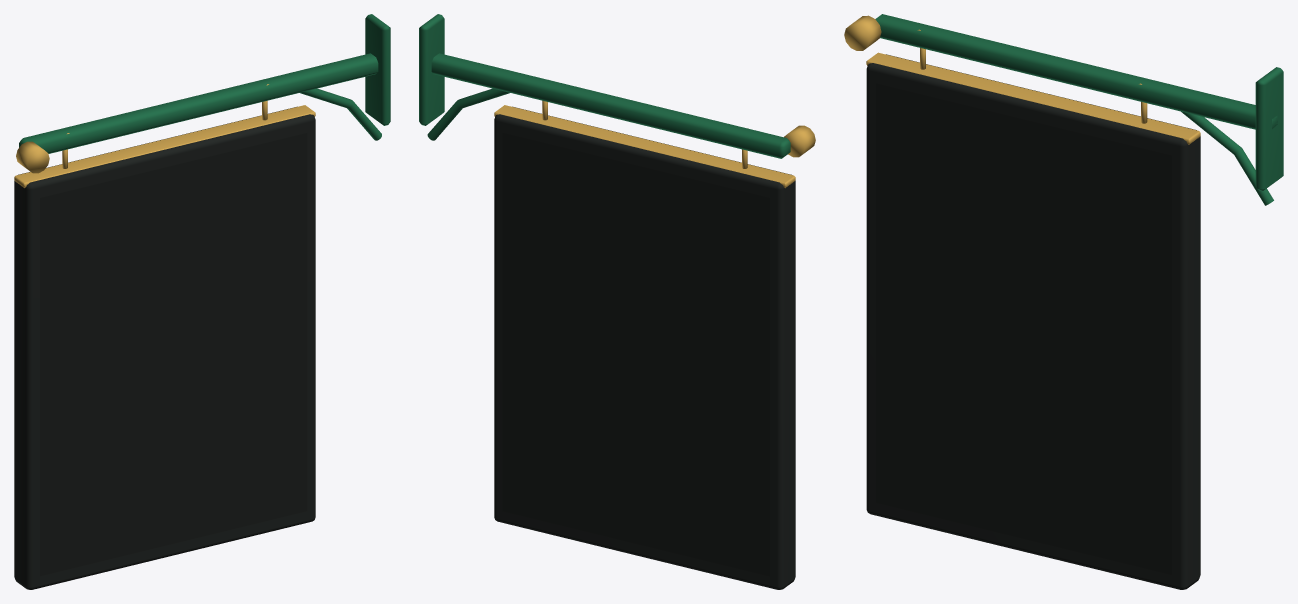
Rendered from blade_sign.glb.
3 renders of one model, left to right at view 1: azimuth 30°, elevation 25°; view 2: azimuth 150°, elevation 25°; view 3: azimuth 330°, elevation 25°, orthographic. The views are drawn at different scales.
Parts seen in each view (by area): view 1: SignFaceB, Panel, Arm, PanelTrim, WallPlate, Brace, ArmEnd; view 2: SignFaceA, Panel, Arm, PanelTrim, WallPlate, Brace, ArmEnd; view 3: SignFaceB, Panel, Arm, PanelTrim, WallPlate, Brace, ArmEnd.
Part boxes in pixels (bbox=[...]): SignFaceB: bbox=[40, 133, 307, 576]; Panel: bbox=[14, 106, 315, 589]; Arm: bbox=[19, 53, 378, 153]; PanelTrim: bbox=[14, 105, 315, 187]; WallPlate: bbox=[365, 14, 390, 125]; Brace: bbox=[300, 88, 381, 140]; ArmEnd: bbox=[16, 141, 49, 173]; SignFaceA: bbox=[502, 133, 769, 576]; Panel: bbox=[494, 106, 795, 589]; Arm: bbox=[431, 53, 790, 158]; PanelTrim: bbox=[494, 105, 795, 187]; WallPlate: bbox=[419, 14, 444, 125]; Brace: bbox=[427, 88, 509, 140]; ArmEnd: bbox=[784, 125, 815, 157]; SignFaceB: bbox=[876, 83, 1171, 574]; Panel: bbox=[866, 54, 1200, 589]; Arm: bbox=[875, 14, 1277, 129]; PanelTrim: bbox=[866, 52, 1200, 144]; WallPlate: bbox=[1255, 67, 1283, 190]; Brace: bbox=[1181, 111, 1273, 205]; ArmEnd: bbox=[844, 15, 881, 50].
Size of the model in its own units: 0.7836 by 0.9644 by 0.095.
